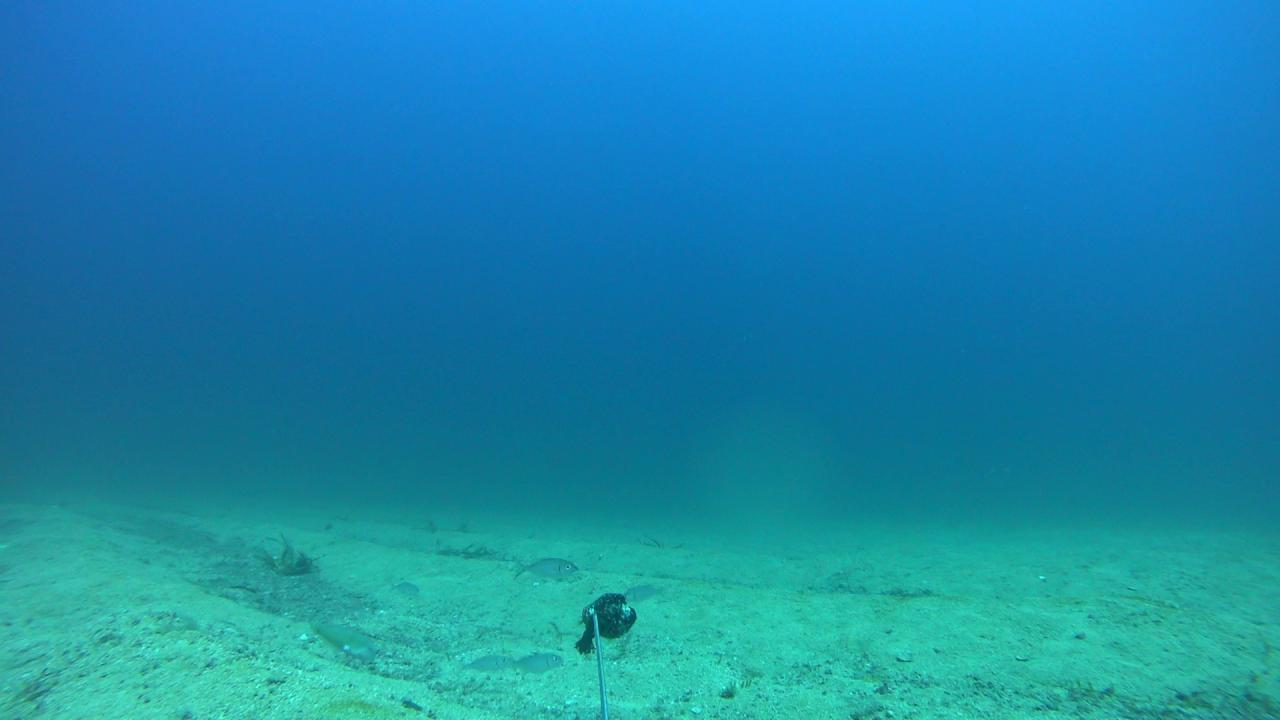pagellus: (510, 553, 577, 581), (508, 651, 564, 673), (457, 654, 515, 674), (623, 583, 668, 600), (386, 580, 418, 600)
